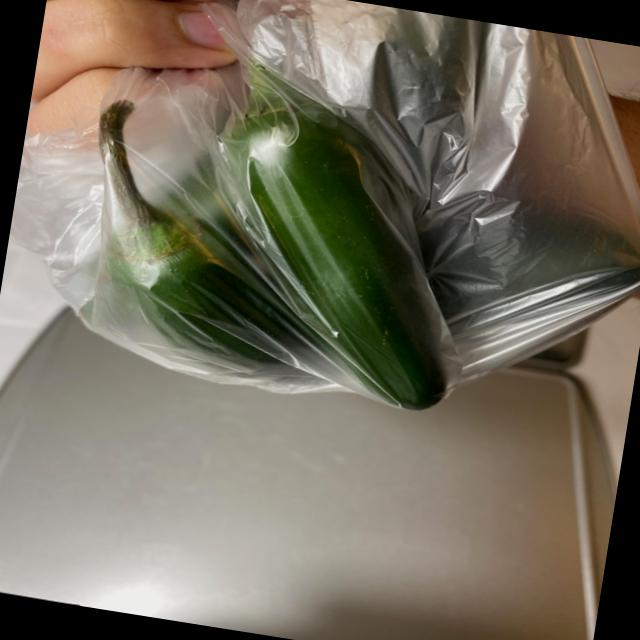chilli: (37, 2, 640, 455)
